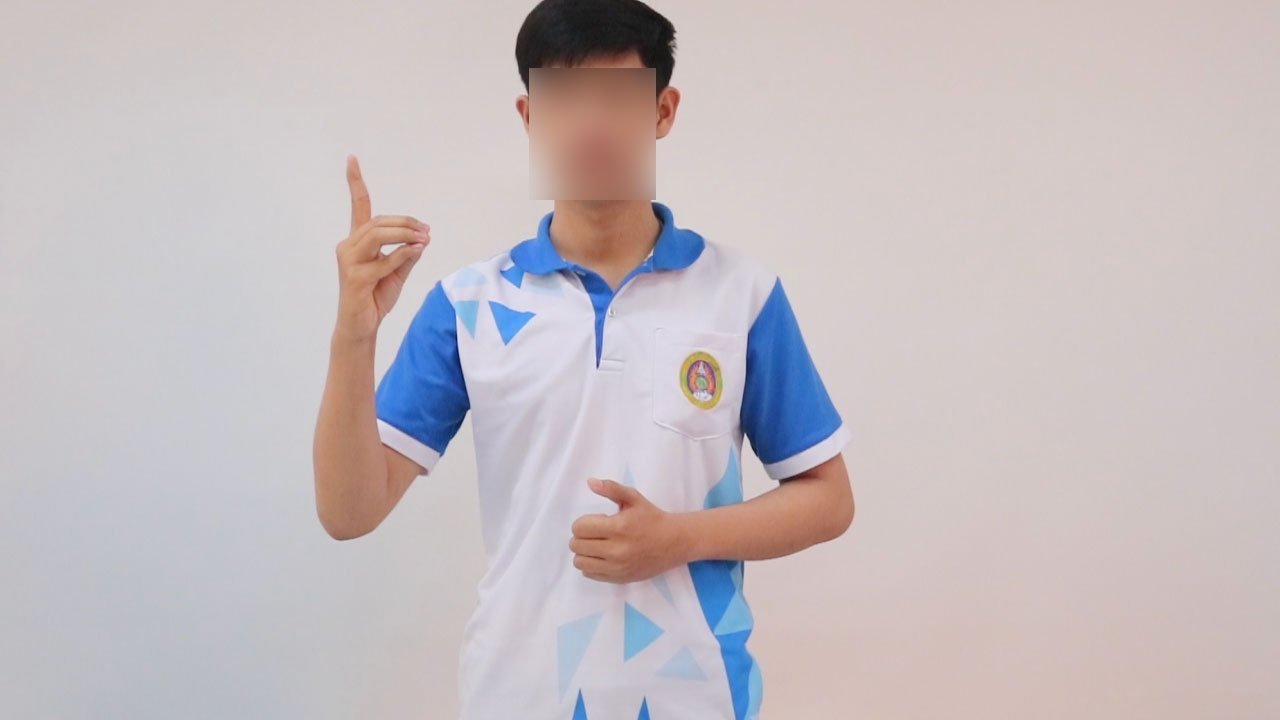dor: (324, 146, 438, 340)
